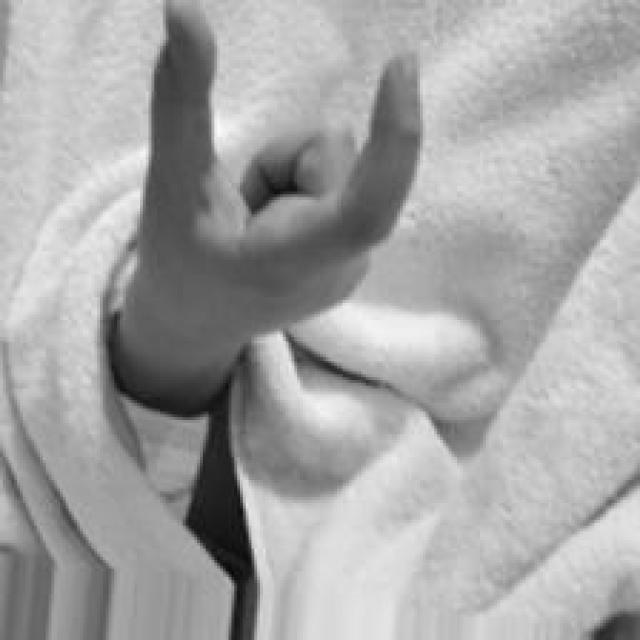U: (122, 0, 428, 374)
